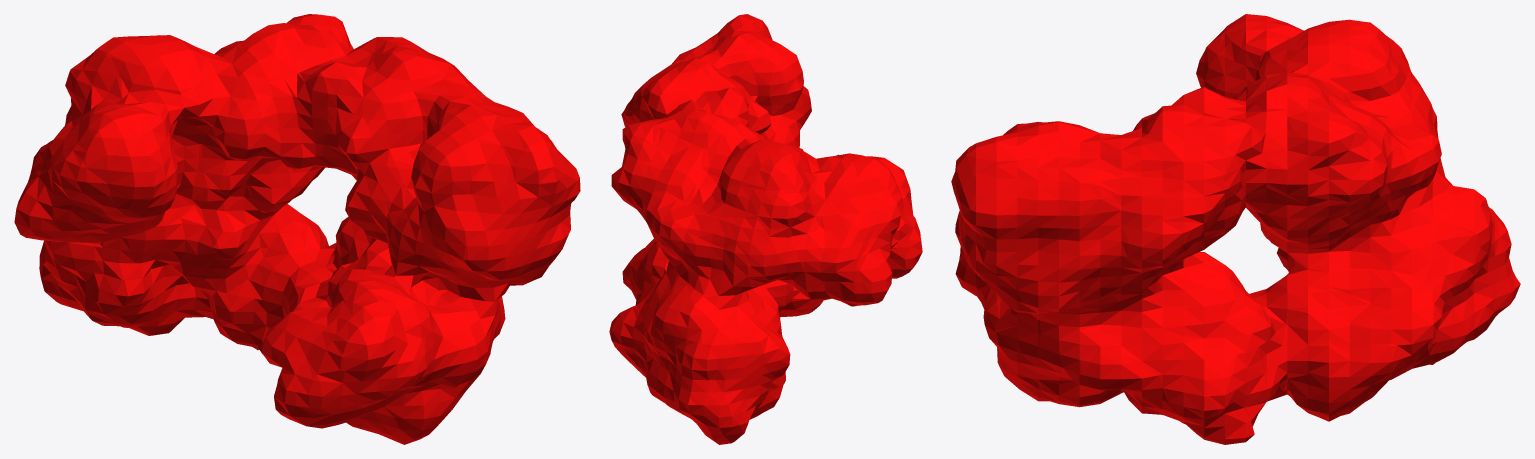
Rendered from rlmL_coarse.dae.
The picture shows the model from 3 angles, left to right: view 1: azimuth 30°, elevation 25°; view 2: azimuth 150°, elevation 25°; view 3: azimuth 270°, elevation 25°; orthographic projection. The views are drawn at different scales.
Parts seen in each view (by area): view 1: rlmL; view 2: rlmL; view 3: rlmL.
Boxes of the visible parts, left/top/right/bottom form: rlmL: left=14, top=14, right=580, bottom=444; rlmL: left=609, top=14, right=922, bottom=444; rlmL: left=951, top=14, right=1520, bottom=444.
Bounding box in the file's own units: 100 × 79.68 × 122.
